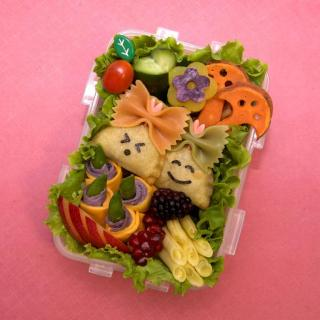Tomato: (102, 54, 138, 84)
